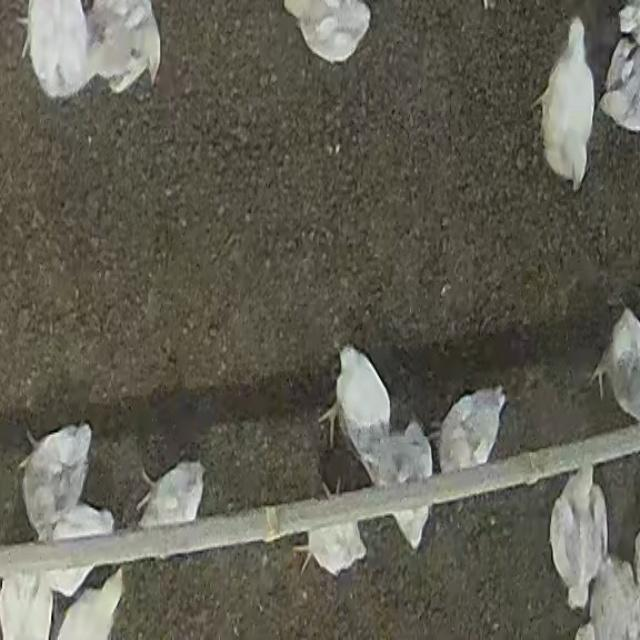chicken: (530, 14, 599, 201), (546, 463, 611, 617), (323, 342, 392, 466), (137, 455, 204, 556)
